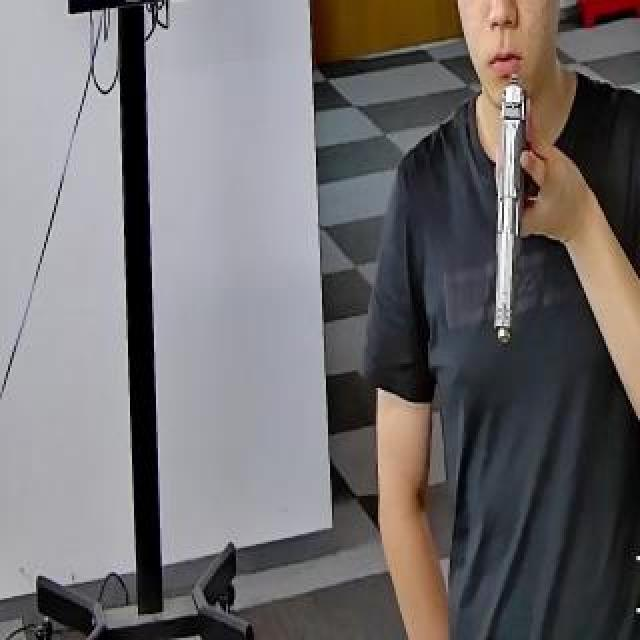Guns: (469, 41, 572, 349)
